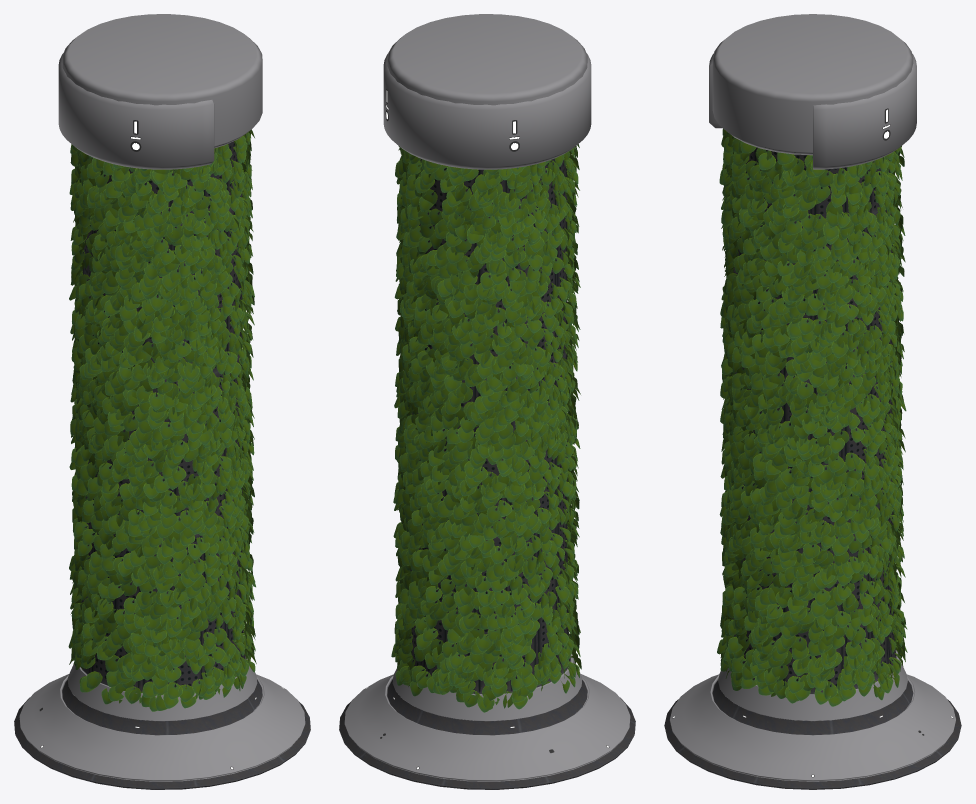
The model's file is SM_TowerSmall01_b.fbx.
3 views of the same model, side by side, from view 1: azimuth 30°, elevation 25°; view 2: azimuth 150°, elevation 25°; view 3: azimuth 270°, elevation 25° (orthographic).
Visible parts, largest first — view 1: SM_TowerSmall01_b_LOD0; view 2: SM_TowerSmall01_b_LOD0; view 3: SM_TowerSmall01_b_LOD0.
Boxes of the visible parts, <box> form: SM_TowerSmall01_b_LOD0: <box>14,14,310,789</box>; SM_TowerSmall01_b_LOD0: <box>339,14,635,789</box>; SM_TowerSmall01_b_LOD0: <box>664,14,961,789</box>.
Size of the model in its own units: 1200 by 1200 by 3000.
4 materials, 4 textured.
